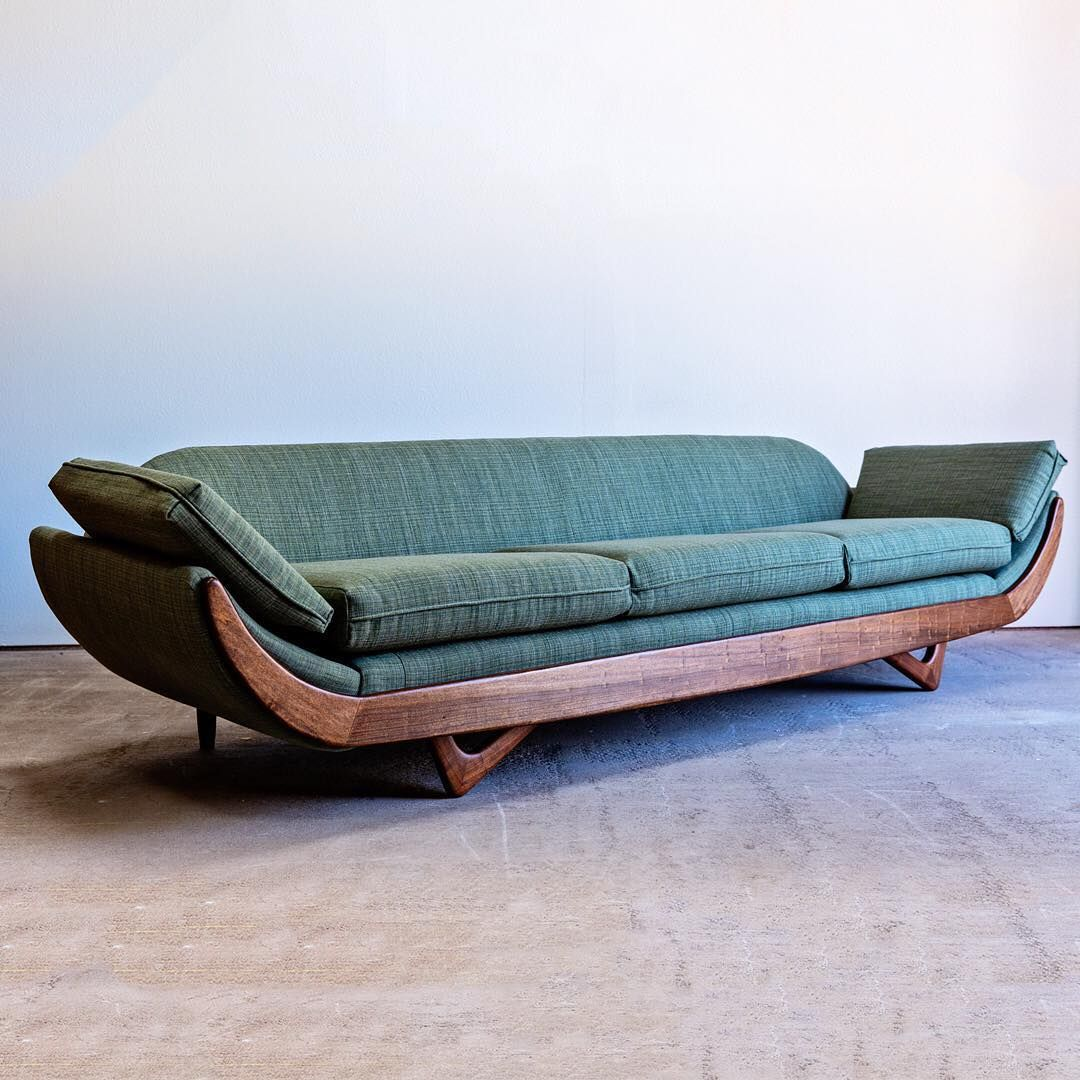backrest: (147, 436, 846, 562)
base: (207, 500, 1063, 747)
leftarmrest: (989, 496, 1051, 592)
leg: (31, 527, 315, 744), (246, 619, 357, 696), (432, 725, 537, 796), (885, 644, 946, 690), (197, 709, 216, 752)
pillow: (50, 459, 330, 631)
rightarmrest: (31, 527, 316, 744), (238, 609, 356, 698), (241, 609, 359, 695)
seat: (310, 515, 1012, 698)
